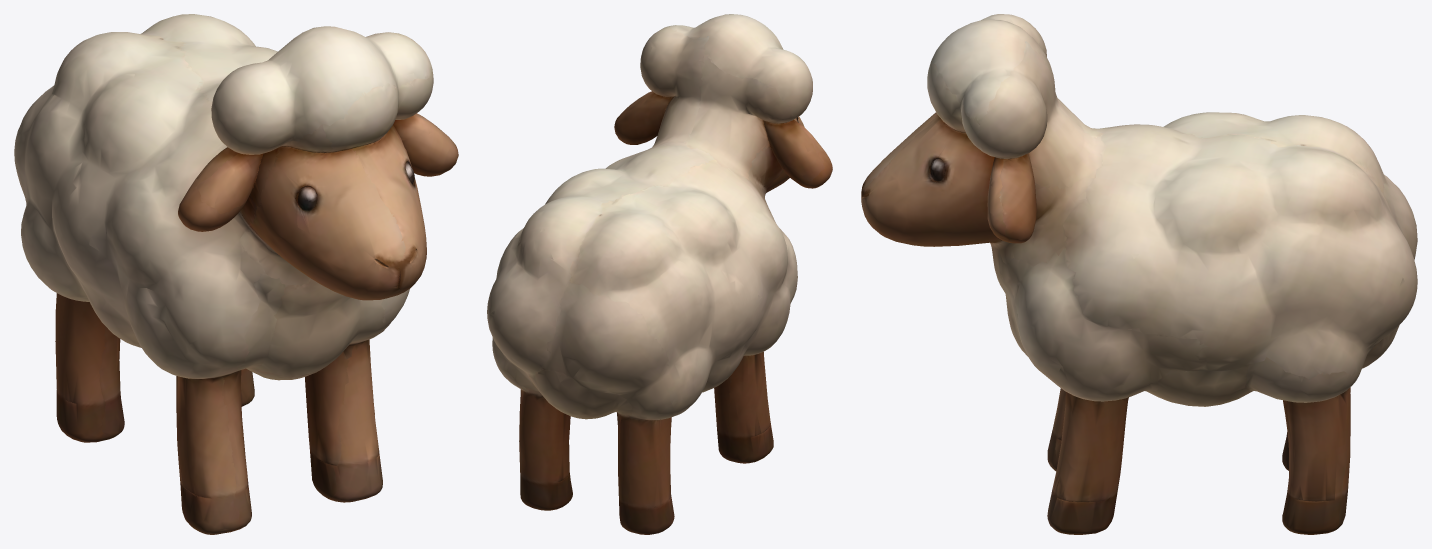
The model's file is sheep_pbr.glb.
3 renders of one model, left to right at view 1: azimuth 30°, elevation 25°; view 2: azimuth 150°, elevation 25°; view 3: azimuth 270°, elevation 25°, orthographic. The views are drawn at different scales.
Parts seen in each view (by area): view 1: model.017; view 2: model.017; view 3: model.017.
Part boxes in pixels (x1,y1,x2,y2): model.017: [14, 14, 458, 534]; model.017: [487, 14, 832, 534]; model.017: [861, 14, 1417, 534].
Size of the model in its own units: 0.8359 by 1.46 by 1.56.
Materials: 1 (1 with a texture image).
